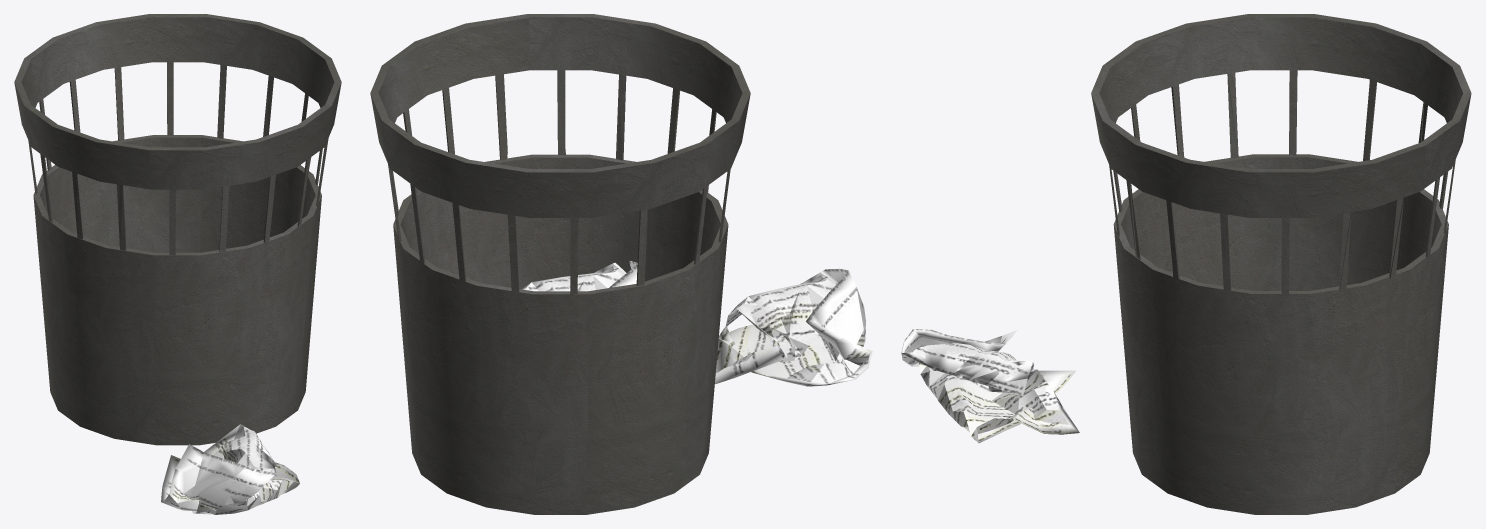
The model's file is Basket.fbx.
3 views of the same model, side by side, from view 1: azimuth 30°, elevation 25°; view 2: azimuth 150°, elevation 25°; view 3: azimuth 270°, elevation 25° (orthographic). The views are drawn at different scales.
Visible parts, largest first — view 1: basket, Paper 2; view 2: basket, Paper 2, Paper 3; view 3: basket, Paper 2.
Boxes of the visible parts, bbox=[...] form: basket: bbox=[14, 14, 341, 445]; Paper 2: bbox=[161, 424, 299, 514]; basket: bbox=[370, 14, 750, 514]; Paper 2: bbox=[715, 268, 872, 386]; Paper 3: bbox=[522, 261, 637, 291]; basket: bbox=[1091, 14, 1471, 514]; Paper 2: bbox=[901, 329, 1079, 443].
Size of the model in its own units: 38.93 by 41.26 by 59.21.
2 materials, 2 textured.
